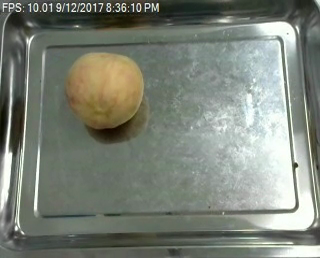Peach: (65, 49, 144, 130)
